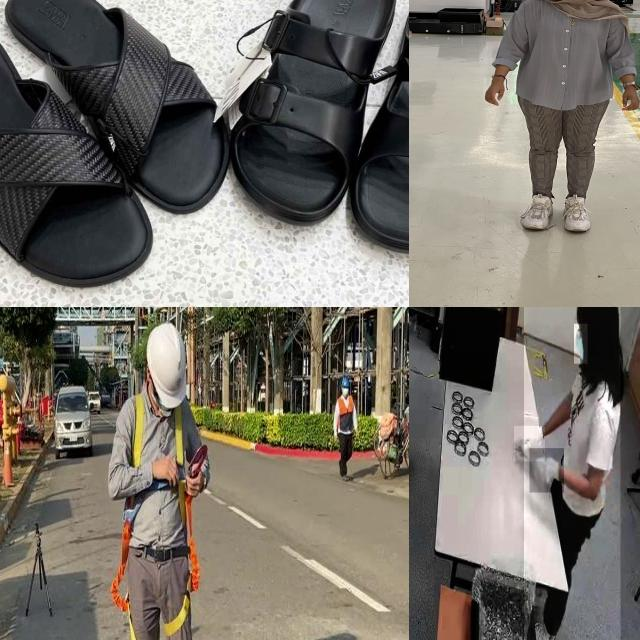Harness: (163, 407, 200, 638), (110, 495, 144, 640)
Sandals: (0, 0, 262, 301), (240, 0, 409, 258)
face_mask: (574, 324, 588, 364)
hand_glove: (530, 448, 564, 493), (514, 426, 545, 461)
hand_noglove: (477, 79, 512, 107), (611, 83, 640, 113)
head_nohelmet: (576, 307, 617, 318)
person: (475, 0, 640, 241), (524, 307, 621, 640)
shoes: (516, 188, 556, 236), (558, 194, 601, 234)
